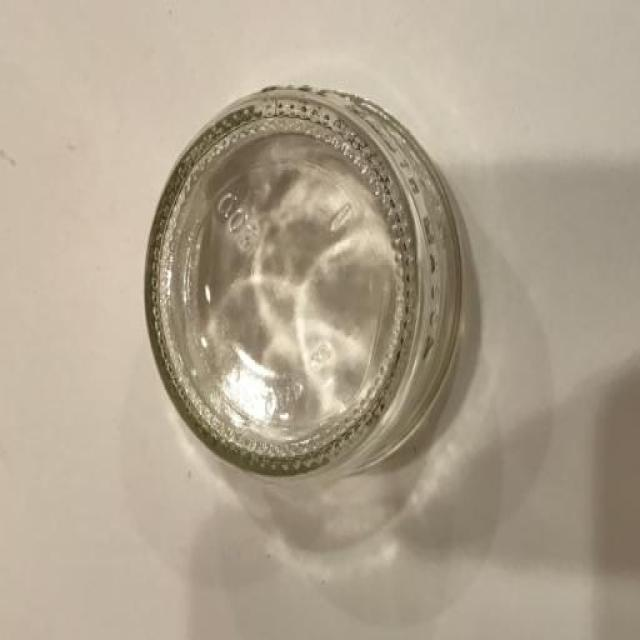Glass: (115, 52, 492, 516)
